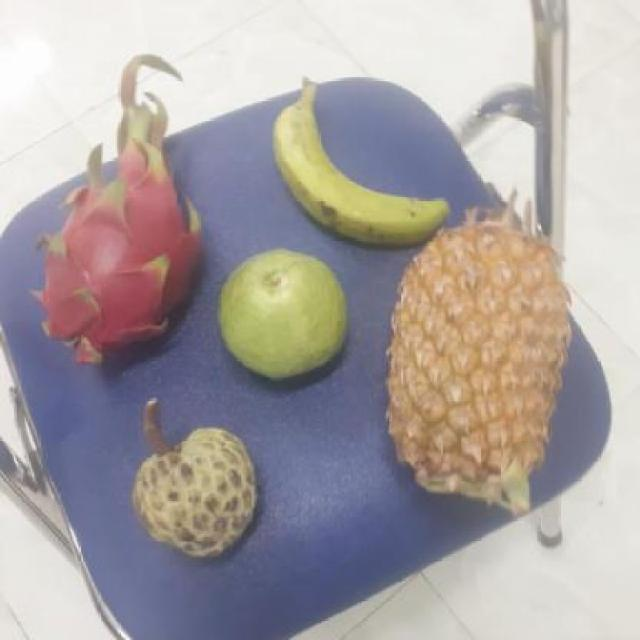banana: (273, 82, 459, 251)
dragon fruit: (43, 158, 212, 365)
guava: (218, 252, 356, 379)
pineapple: (382, 223, 587, 503)
sugar apple: (132, 425, 268, 559)
